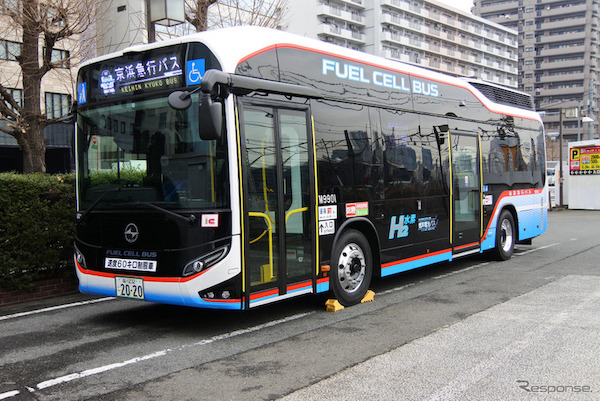destination: (90, 49, 184, 102)
